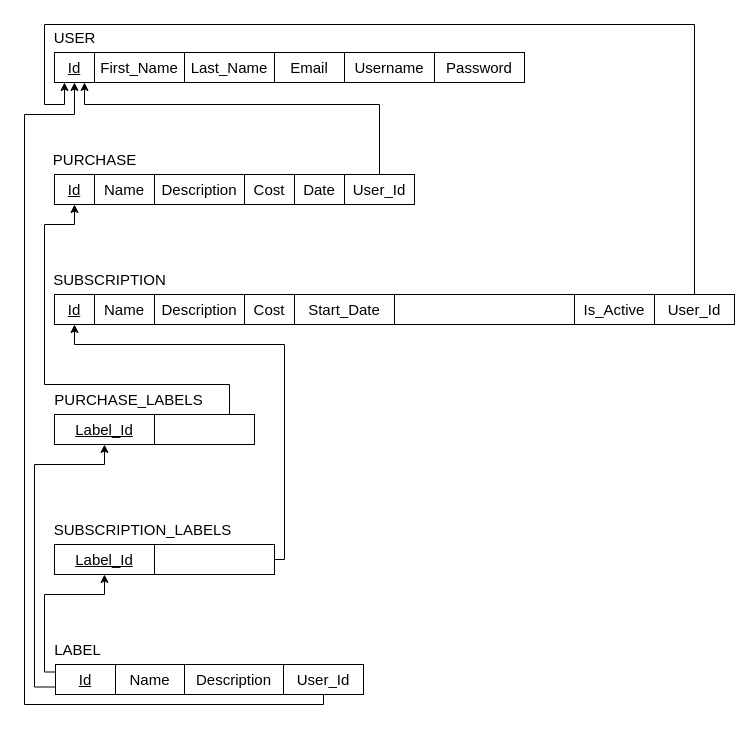
This 752x730 diagram has some shape labels left out. The centre of each missing label's shape, as x and y in pixels:
"Days_Btwn_Purchases" goes at [484,309].
"Purchase_Id" goes at [204,429].
"Subscription_Id" goes at [214,559].
